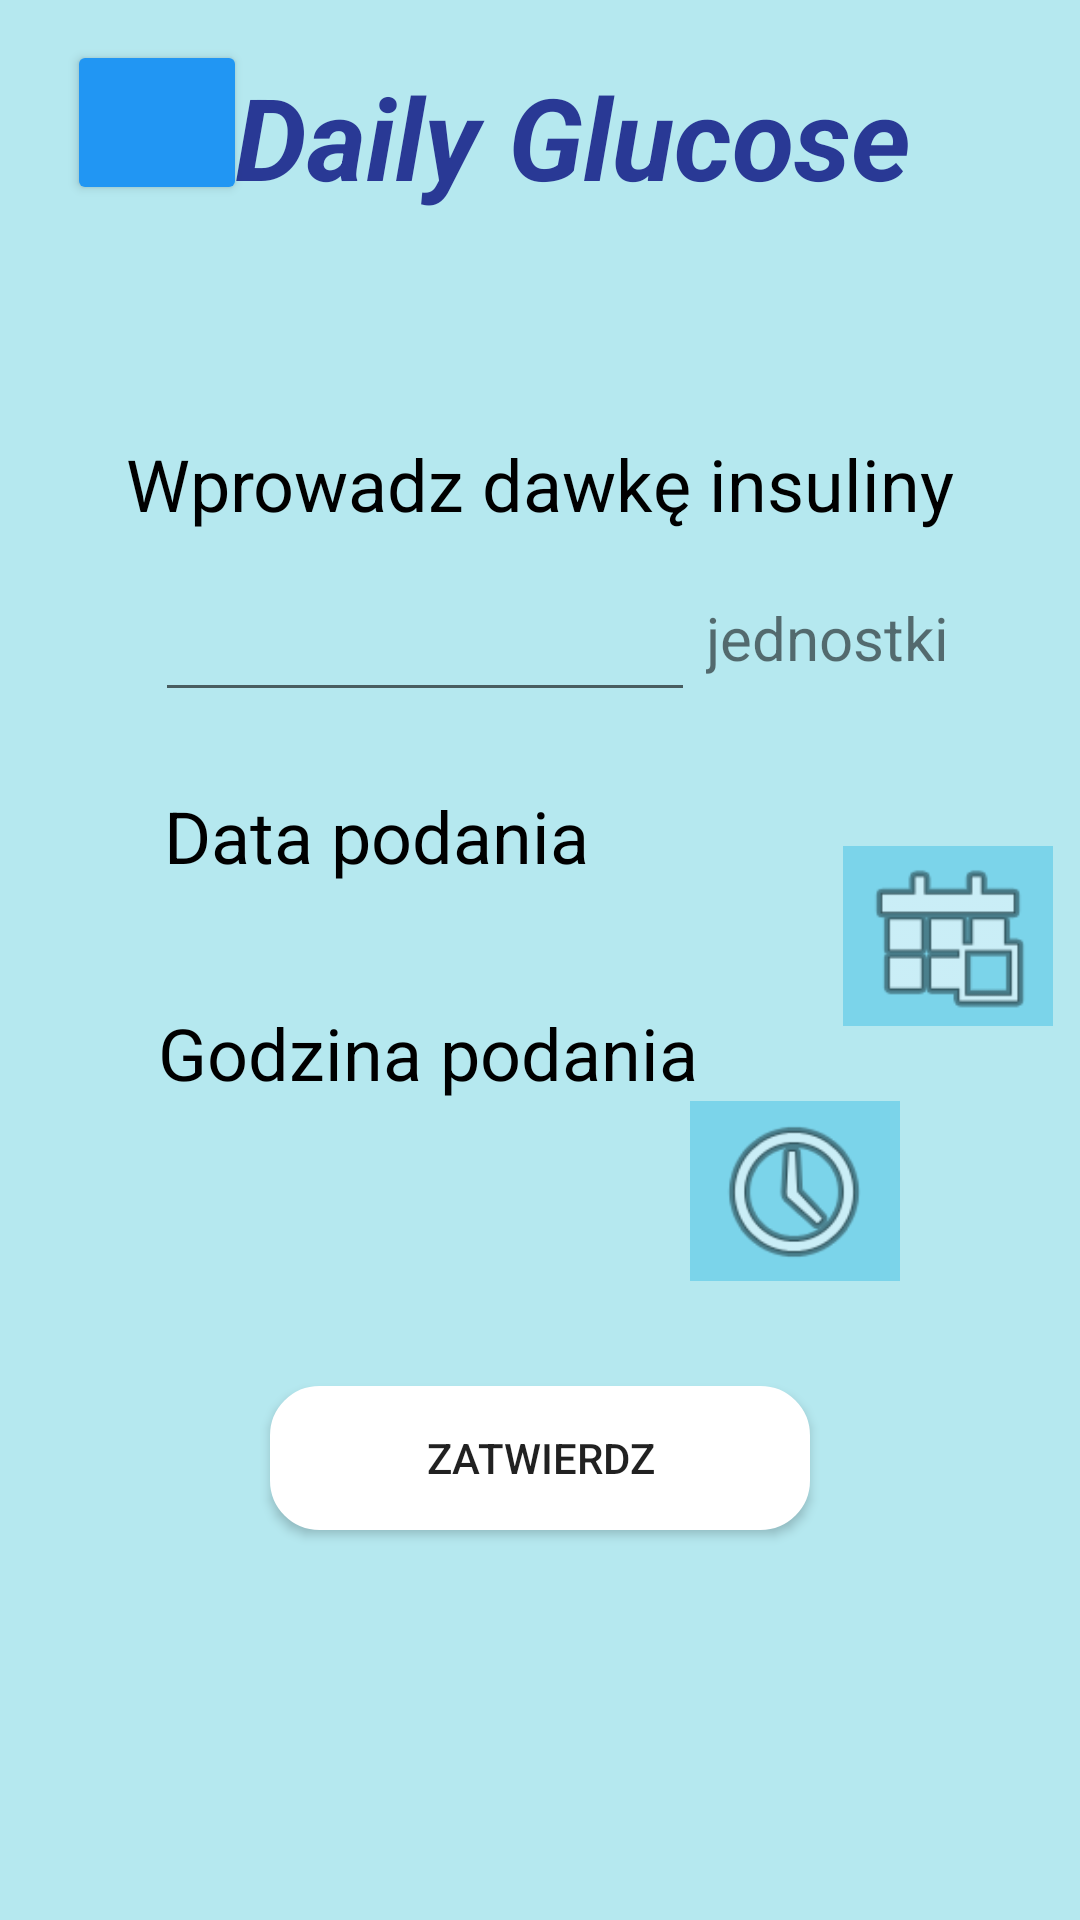

Named icons in this screenshot (1080w x 1920h) and their centers, point (x, y):
recent history: point (795, 1191)
today: point (948, 936)
